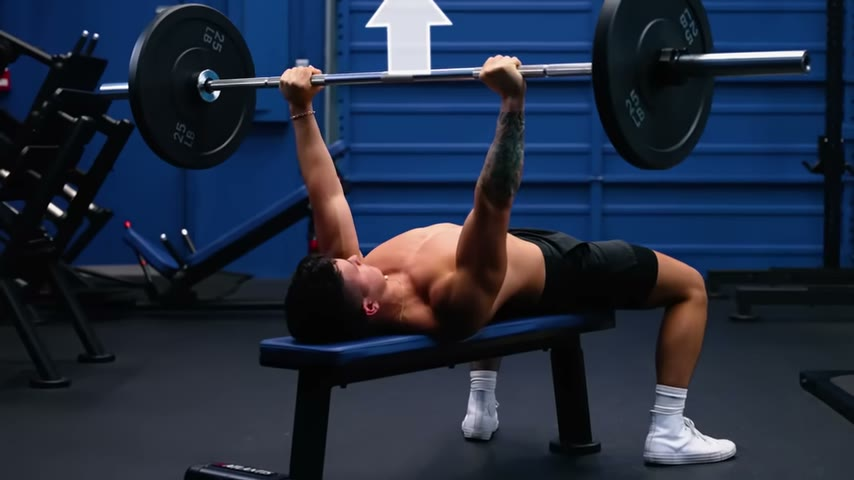barbell_plate_side: (705, 0, 827, 193), (139, 4, 242, 183)
